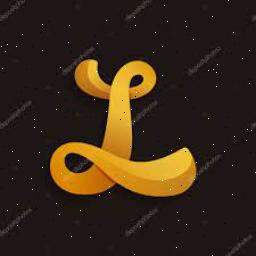l: (48, 50, 200, 208)
